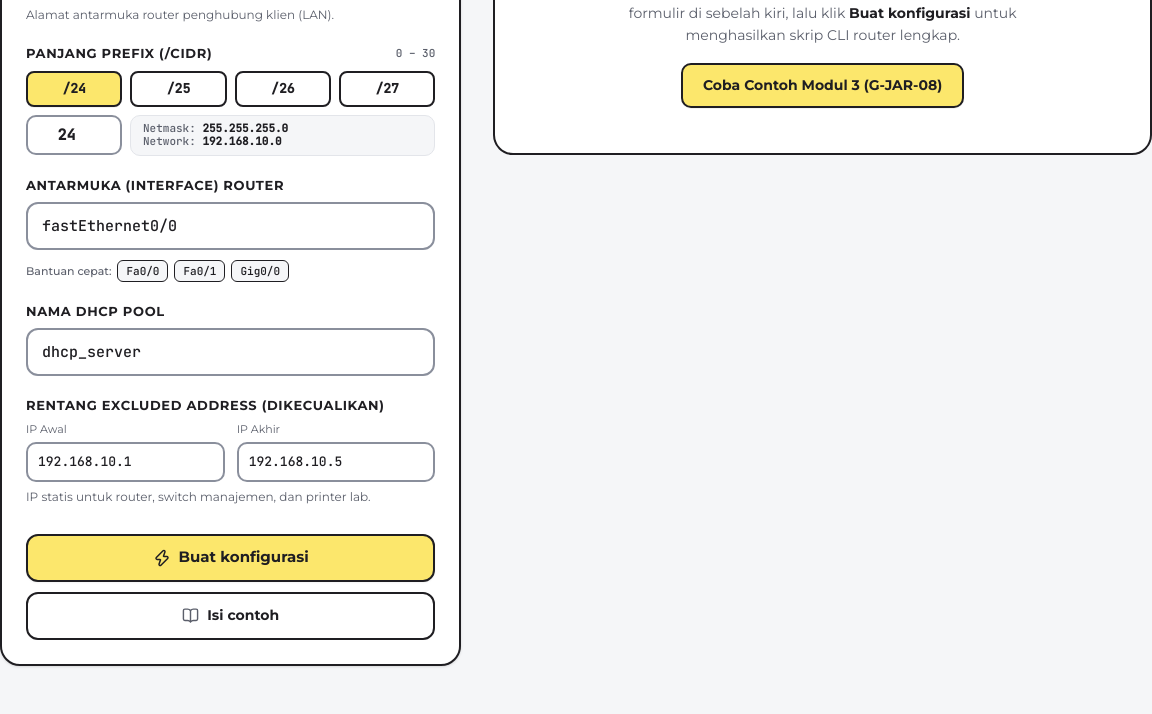
Test case: Generator DHCP Page & CodeBlock Component › mengisi contoh G-JAR-08 dan merender hasil lengkap termasuk CodeBlock 10 baris dan prediksi klien pertama
The image size is (1152, 714).
(page scrolled)
Click the button "Isi contoh" at (231,616), box [26,592,435,640]
(page scrolled)
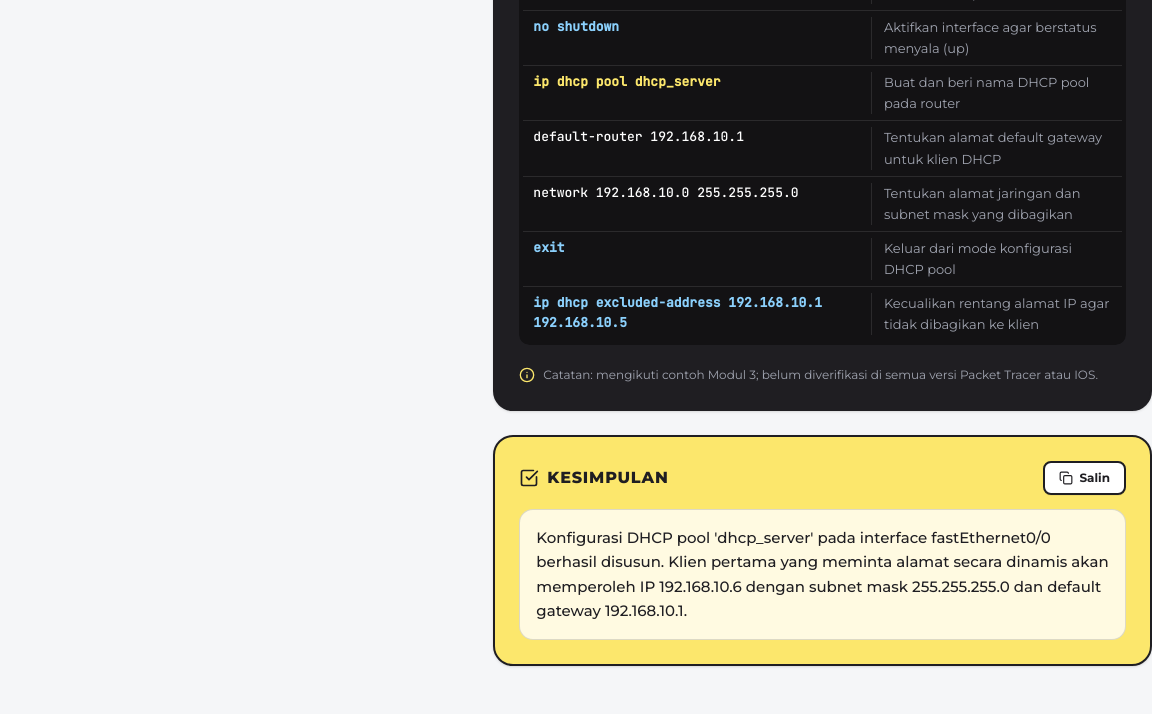
Check: the text "no shutdown" is shown, box [533,18,619,35]
Check: the text "ip dhcp pool dhcp_server" is shown, box [533,73,720,90]
Check: the text "default-router 192.168.10.1" is shown, box [533,128,744,145]
